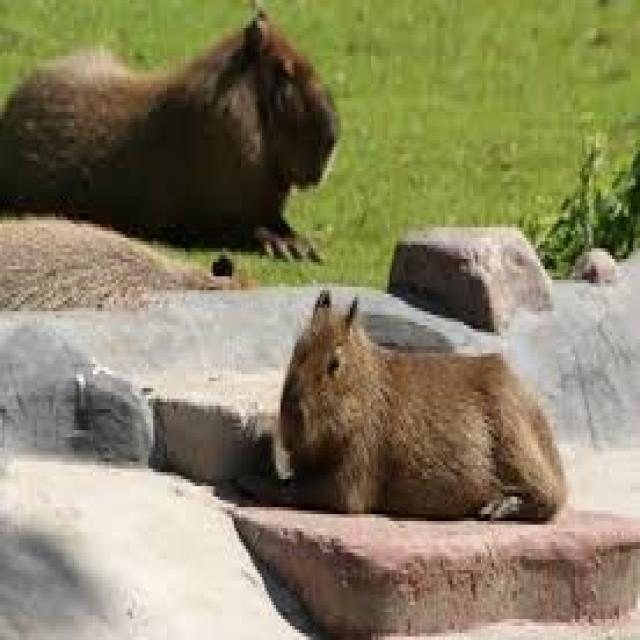capy: (0, 9, 341, 267), (278, 287, 568, 525)
